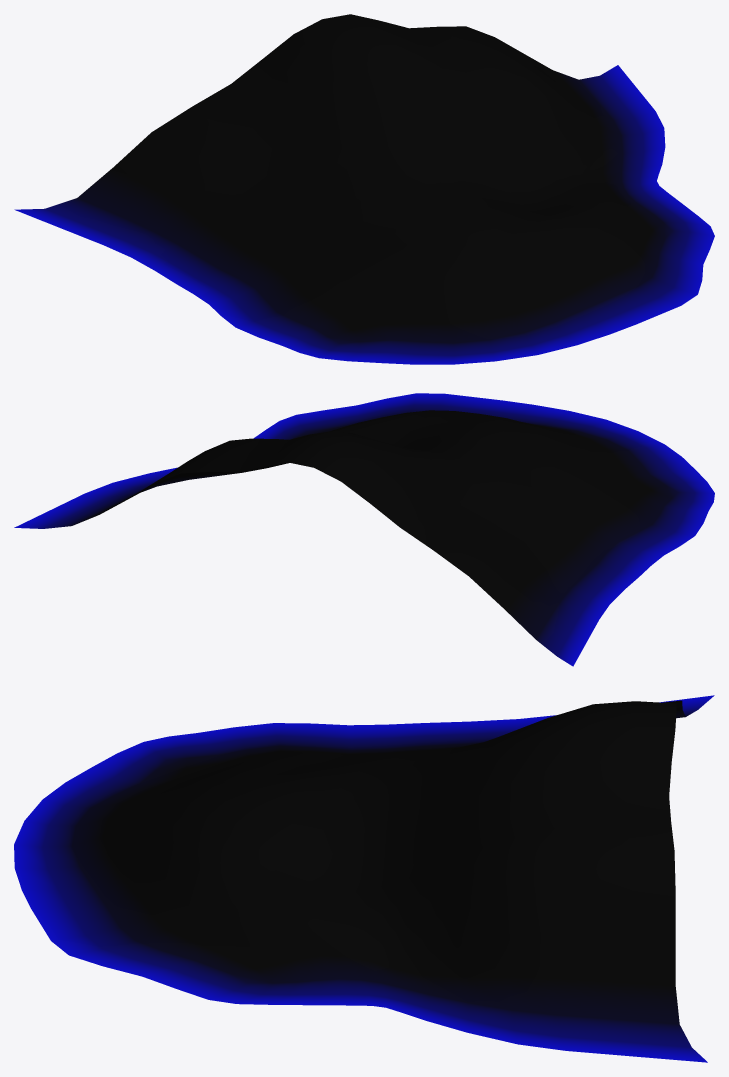
The model's file is DBK_BrickMiddle_Ruble_Tile.FBX.
3 renders of one model, top to bottom at view 1: azimuth 30°, elevation 25°; view 2: azimuth 150°, elevation 25°; view 3: azimuth 270°, elevation 25°, orthographic. The views are drawn at different scales.
Visible parts, largest first — view 1: DBK_BrickMiddle_Ruble_Tile; view 2: DBK_BrickMiddle_Ruble_Tile; view 3: DBK_BrickMiddle_Ruble_Tile.
Boxes of the visible parts, bbox=[...] form: DBK_BrickMiddle_Ruble_Tile: bbox=[14, 14, 714, 364]; DBK_BrickMiddle_Ruble_Tile: bbox=[14, 393, 714, 666]; DBK_BrickMiddle_Ruble_Tile: bbox=[14, 695, 714, 1062].
Size of the model in its own units: 1761 by 372 by 1419.
